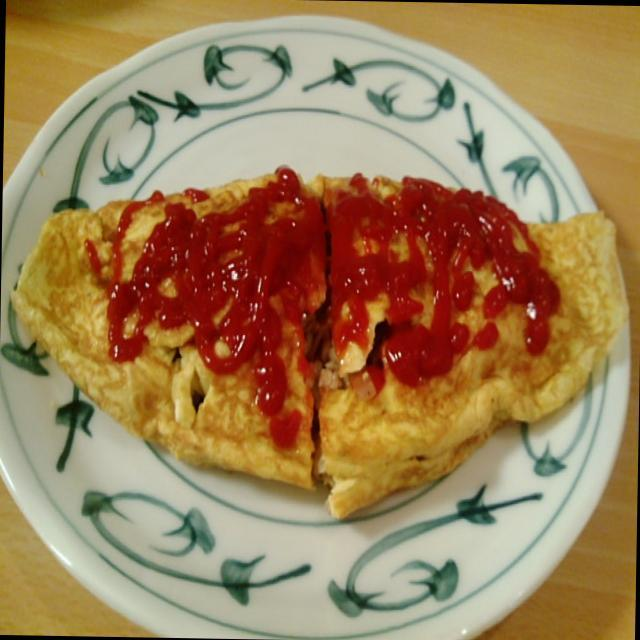Omelet: (14, 181, 626, 494)
